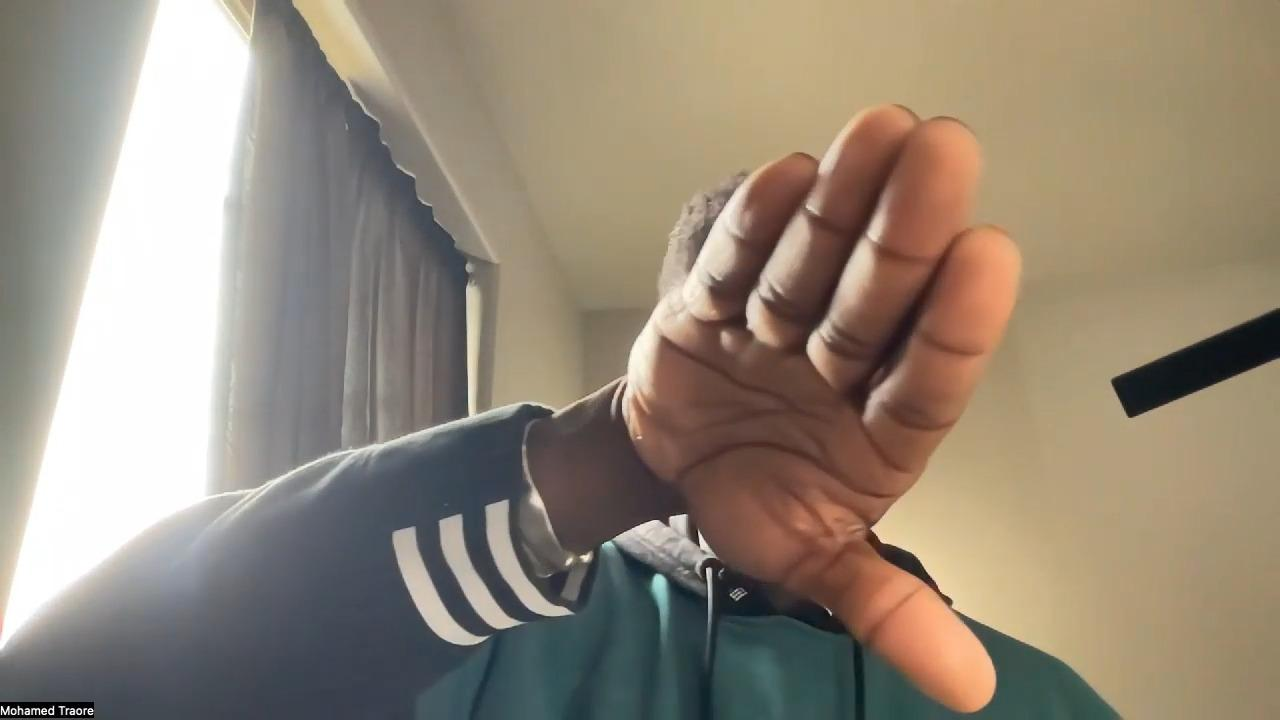Paper: (618, 98, 1020, 717)
